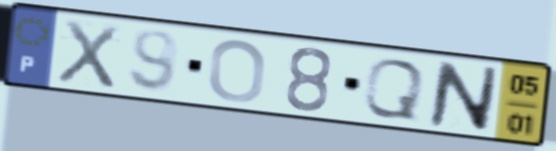8: (283, 45, 334, 114)
9: (128, 28, 182, 95)
N: (425, 58, 502, 135)
O: (206, 37, 270, 105)
Q: (360, 57, 429, 123)
X: (53, 16, 122, 92)
